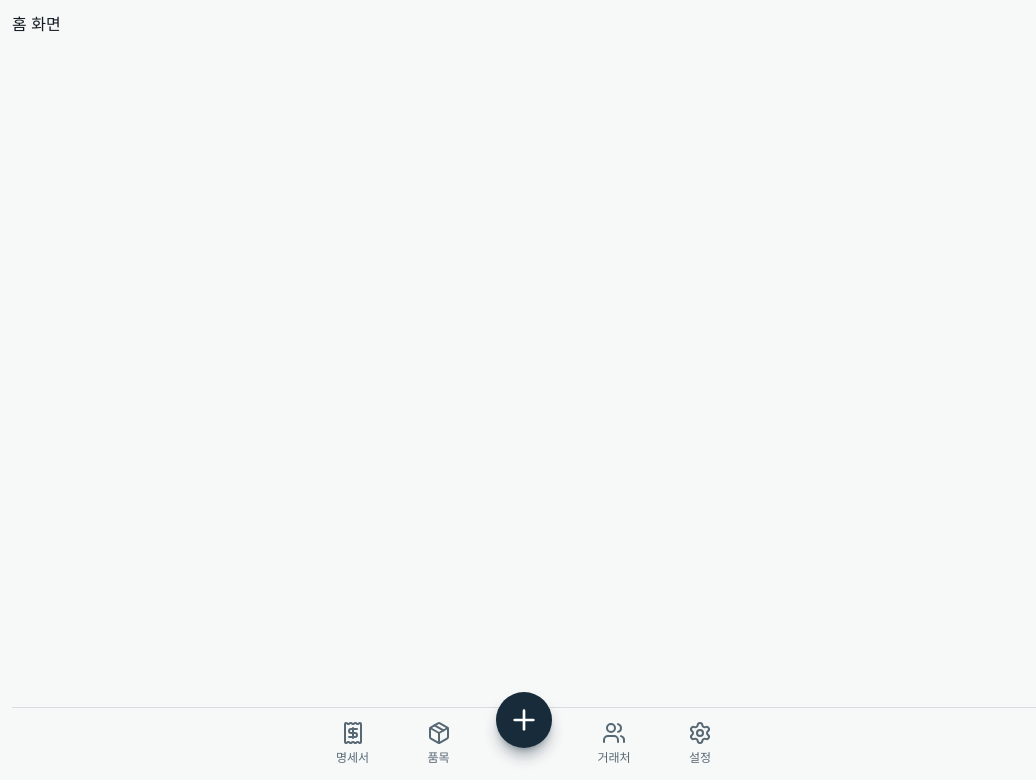
Test case: useVersionReload — 실제 라우터 + AppShell 배선 › 마운트 시엔 확인하지 않고, 실제 내비게이션 후 1회 확인한다
This screenshot has width=1036, height=780.
Click the link "명세서" at (353, 743), box [336, 721, 369, 765]
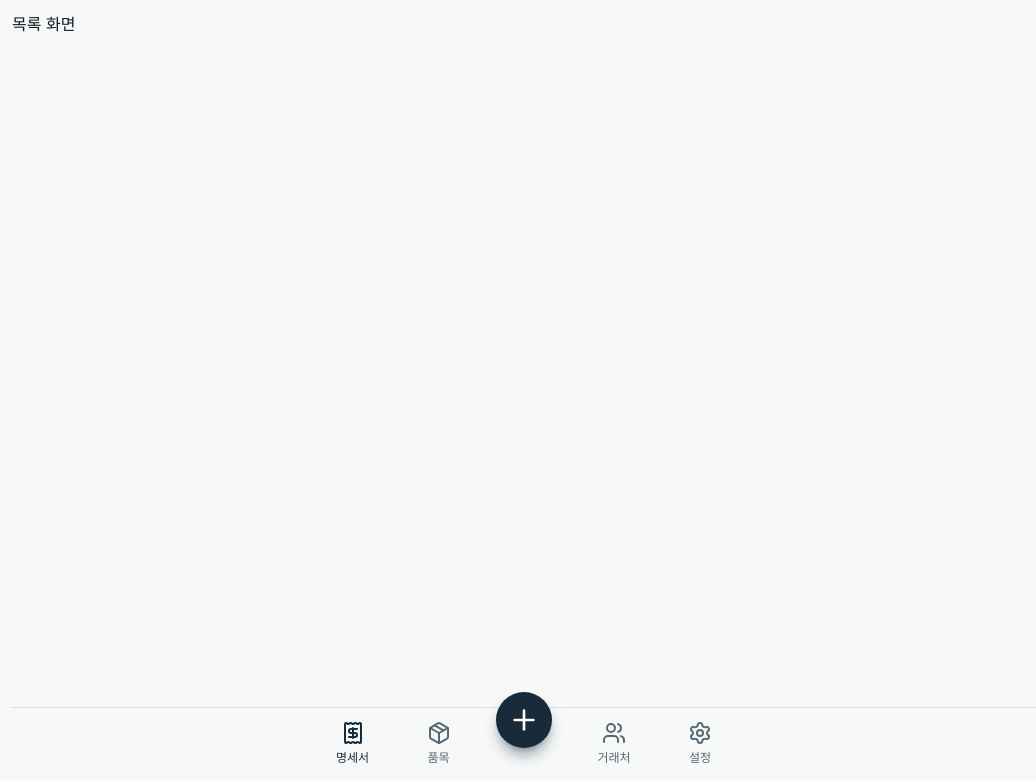
Now the text "목록 화면" is shown, box [12, 14, 75, 34]
